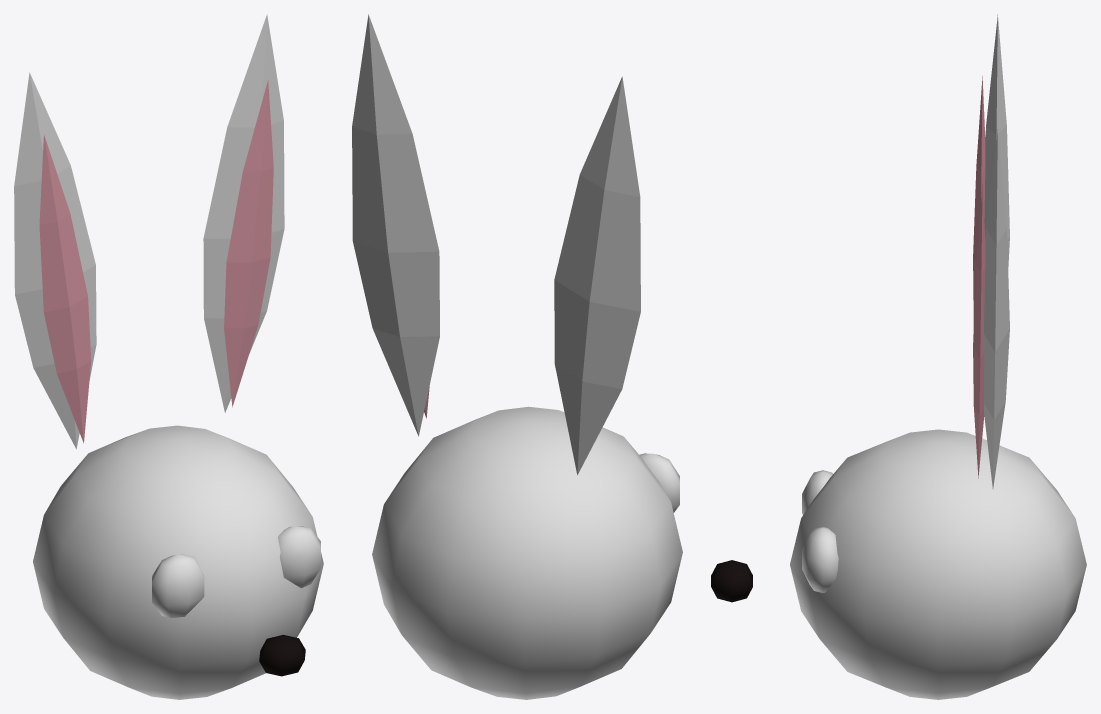
File: ville_cos_fam_lapin_tete.glb
The picture shows the model from 3 angles, left to right: view 1: azimuth 30°, elevation 25°; view 2: azimuth 150°, elevation 25°; view 3: azimuth 270°, elevation 25°; orthographic projection. The views are drawn at different scales.
Parts seen in each view (by area): view 1: cos_fam_lapin_tete; view 2: cos_fam_lapin_tete; view 3: cos_fam_lapin_tete.
Boxes of the visible parts, <box> form: cos_fam_lapin_tete: <box>14,14,323,699</box>; cos_fam_lapin_tete: <box>352,14,682,699</box>; cos_fam_lapin_tete: <box>711,14,1086,699</box>.
Bounding box in the file's own units: 0.2544 × 0.5589 × 0.3097.
